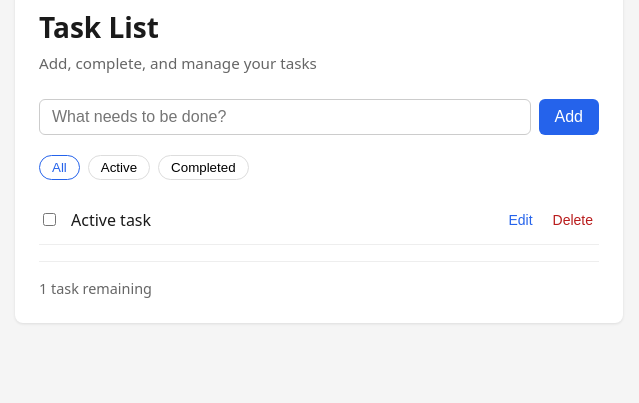
Test: App › shows action errors without removing tasks
Expected: the text "Active task" is shown, [71,209,151,231]
Click the checkbox at (50, 220), box [43,213,56,226]
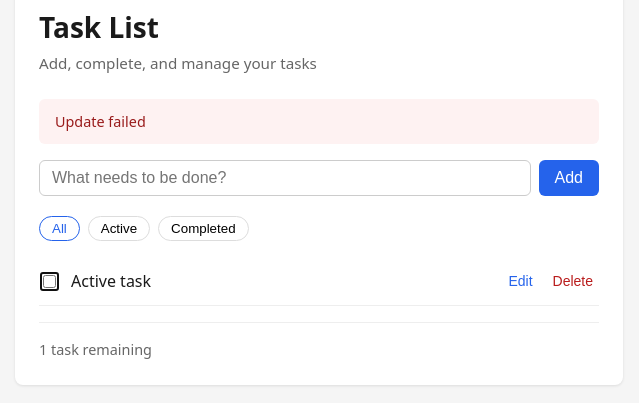
Expected: the text "Active task" is shown, [71,270,151,292]
Expected: the message reads "Update failed", [55,112,146,131]
